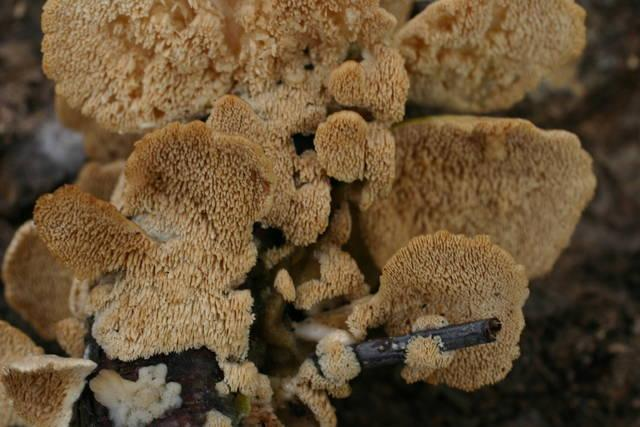poisonous_mushroom: (2, 0, 597, 425), (31, 117, 277, 365), (344, 229, 530, 392)
